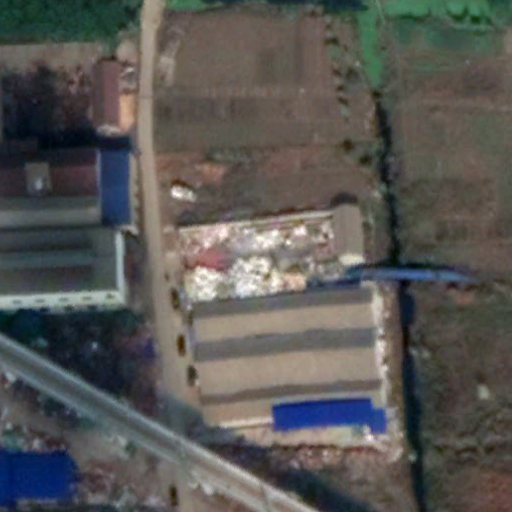msw: (178, 220, 337, 309)
